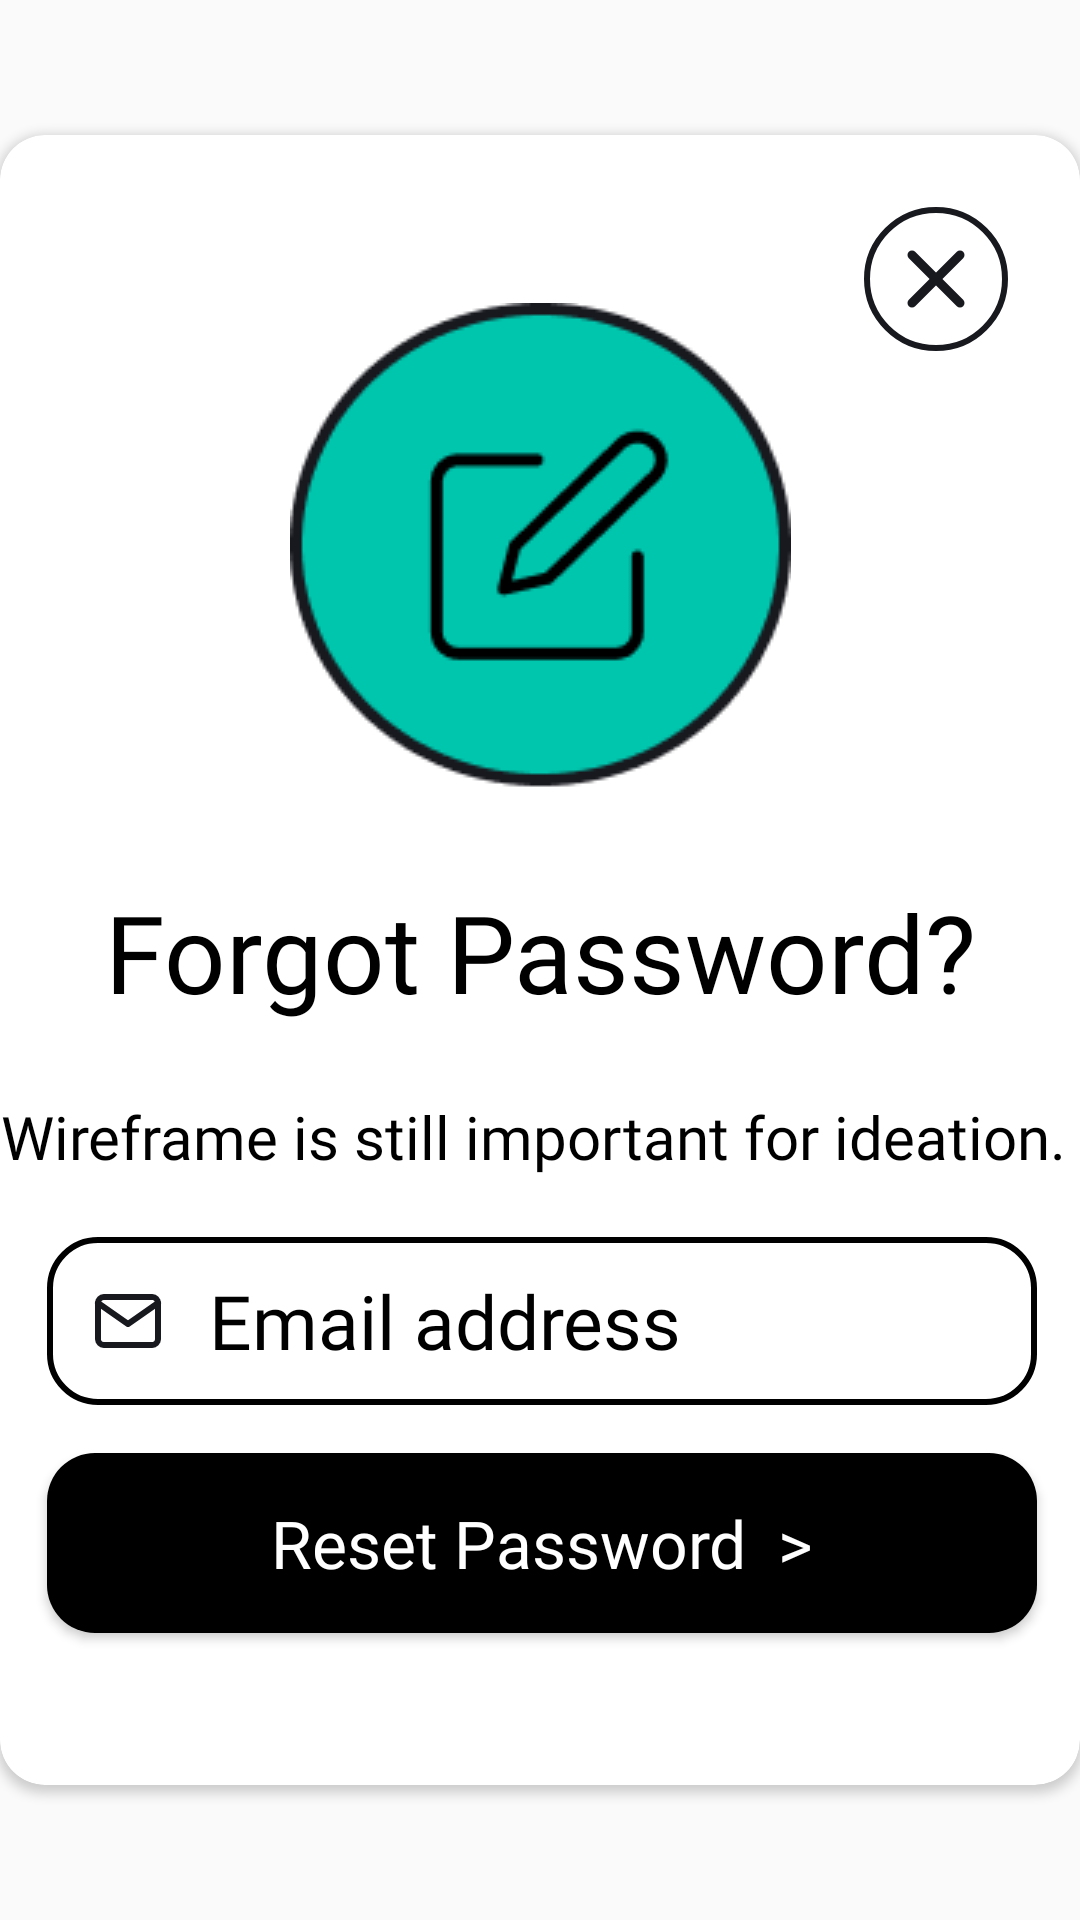

Icons on this 1080px x 1920px Android screen, each with its box as (x1, y1, x2, y2):
cross: (864, 207, 1008, 351)
